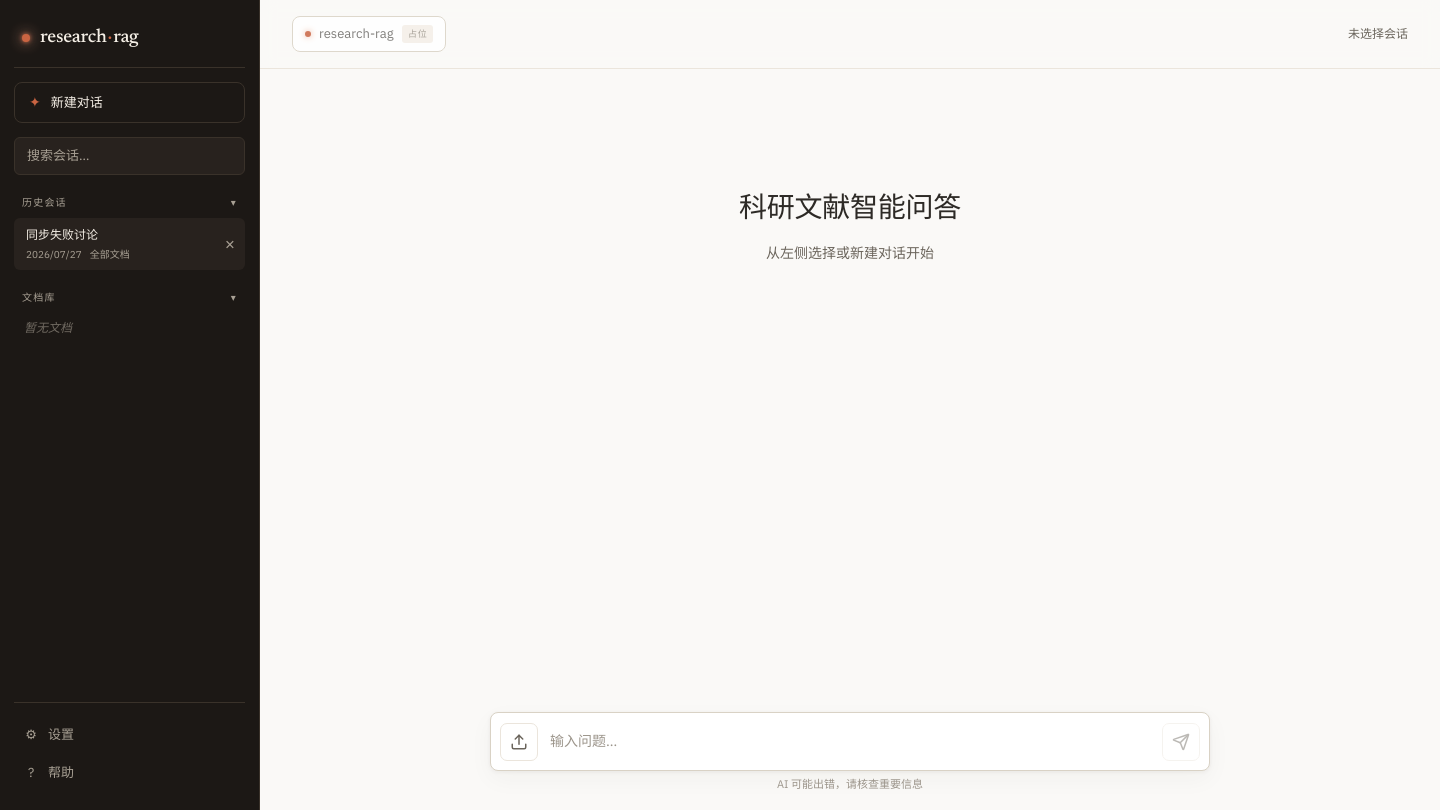
Test: App › 同步失败时保留临时答案并禁止发送且提供重试
Step 1. Click the button "同步失败讨论 2026/07/27 全部文档" → x=114, y=244, box [15,218,212,268]
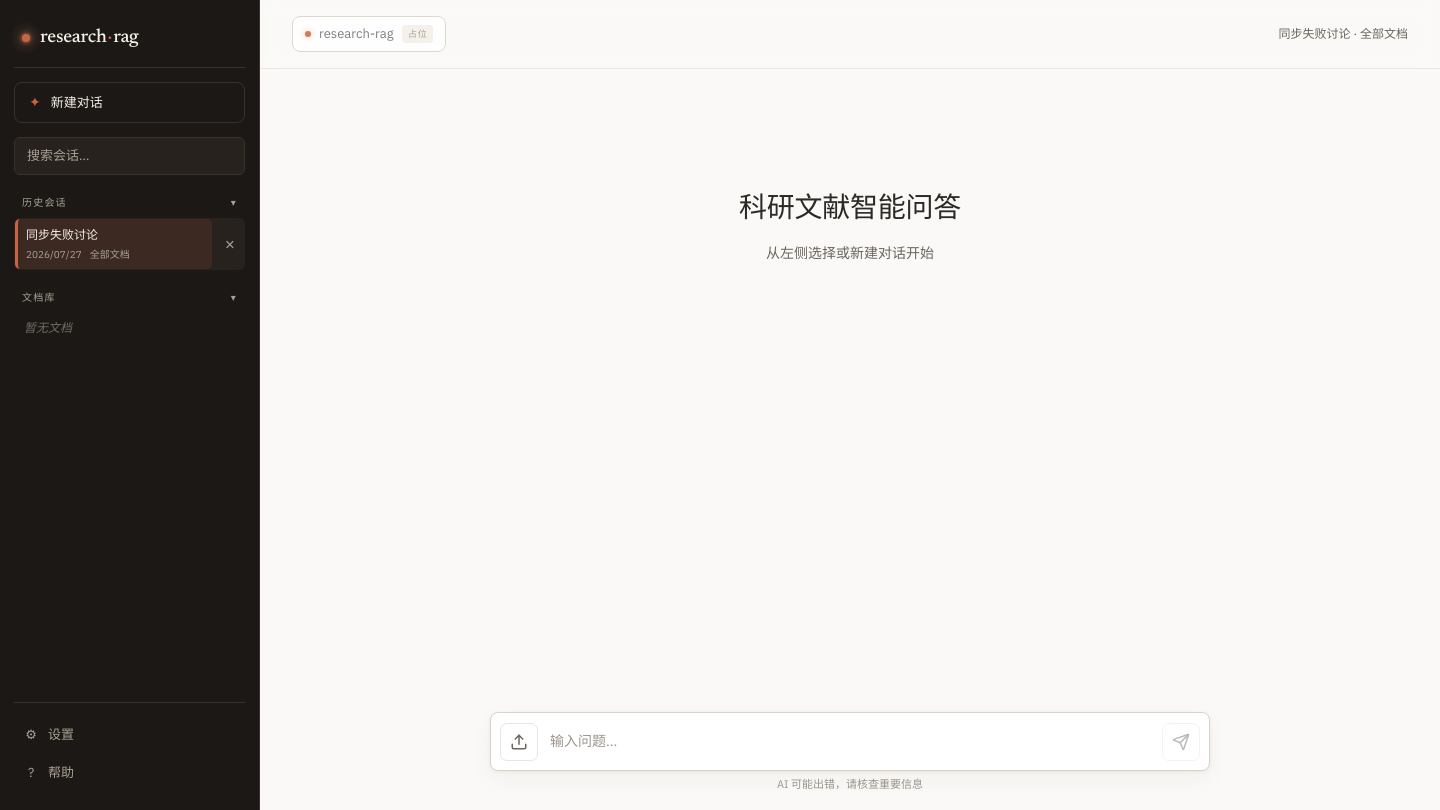
Step 2. Type "同步失败问题" into the text box named "问题输入" → x=850, y=741, box [546,722,1154,760]
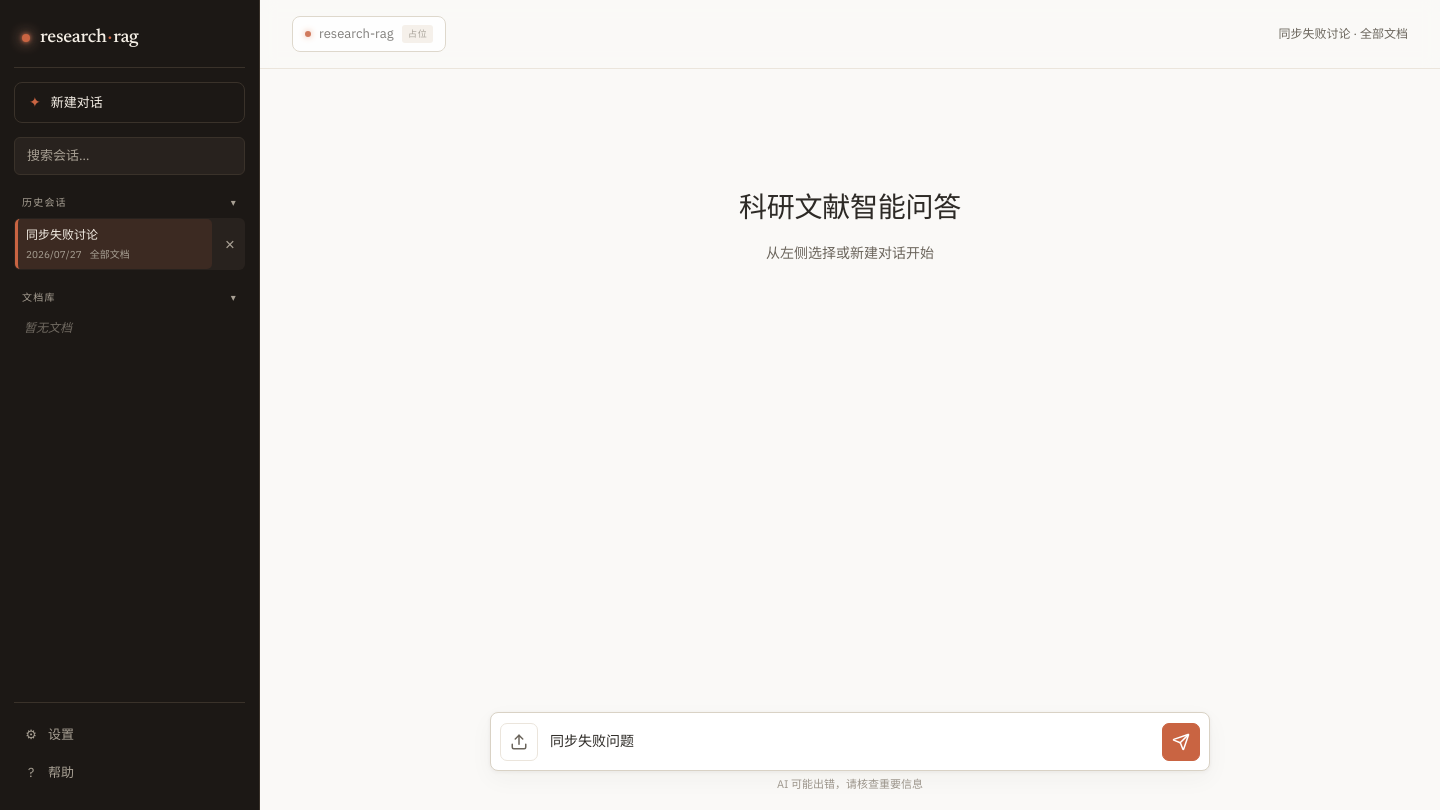
Step 3. Click the button named "发送" → x=1181, y=742, box [1162,722,1200,760]
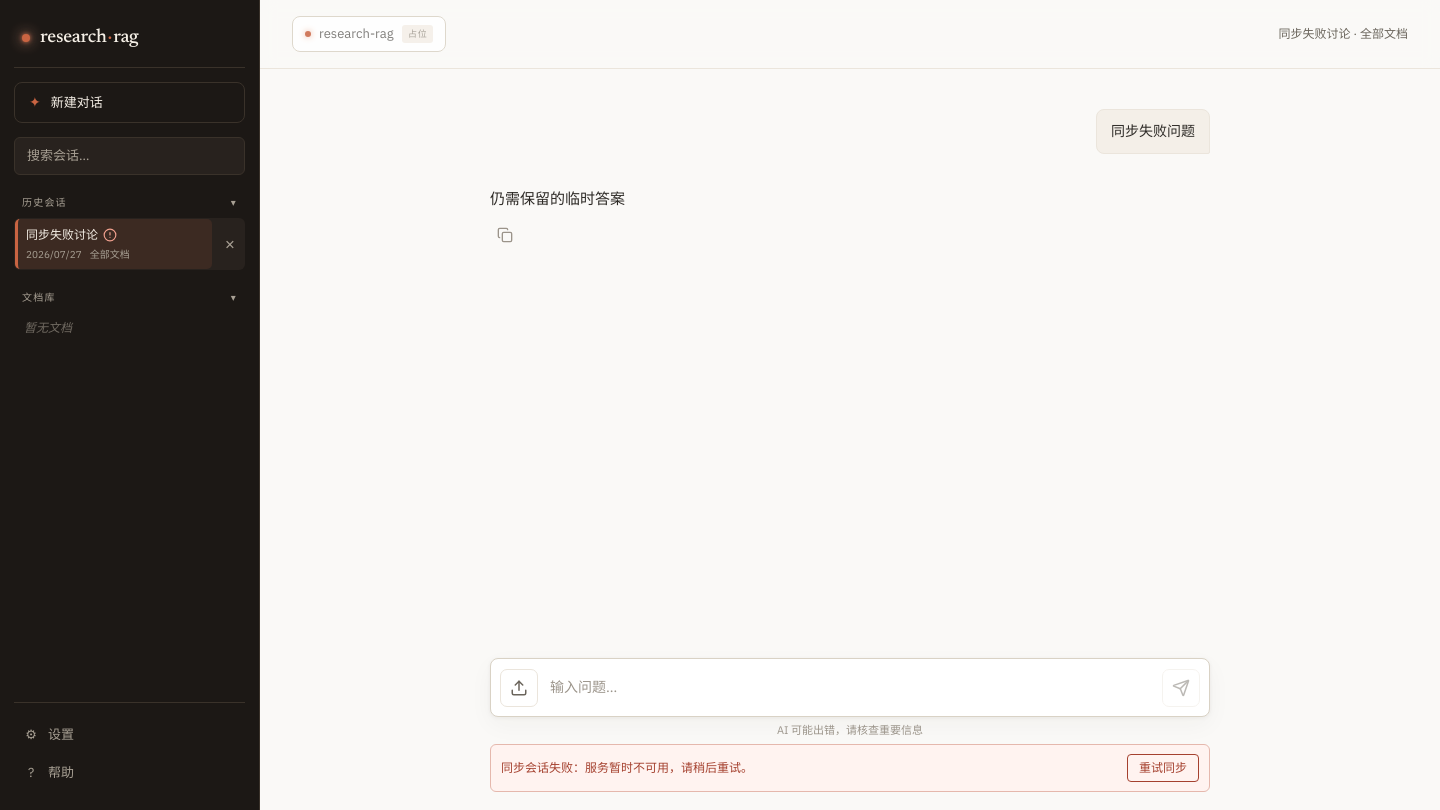
Result: the text "仍需保留的临时答案" is shown at [490,189,625,208]
Result: the button "重试同步" is shown at [1127,754,1199,782]
Result: the text box named "问题输入" is disabled at [546,668,1154,706]
